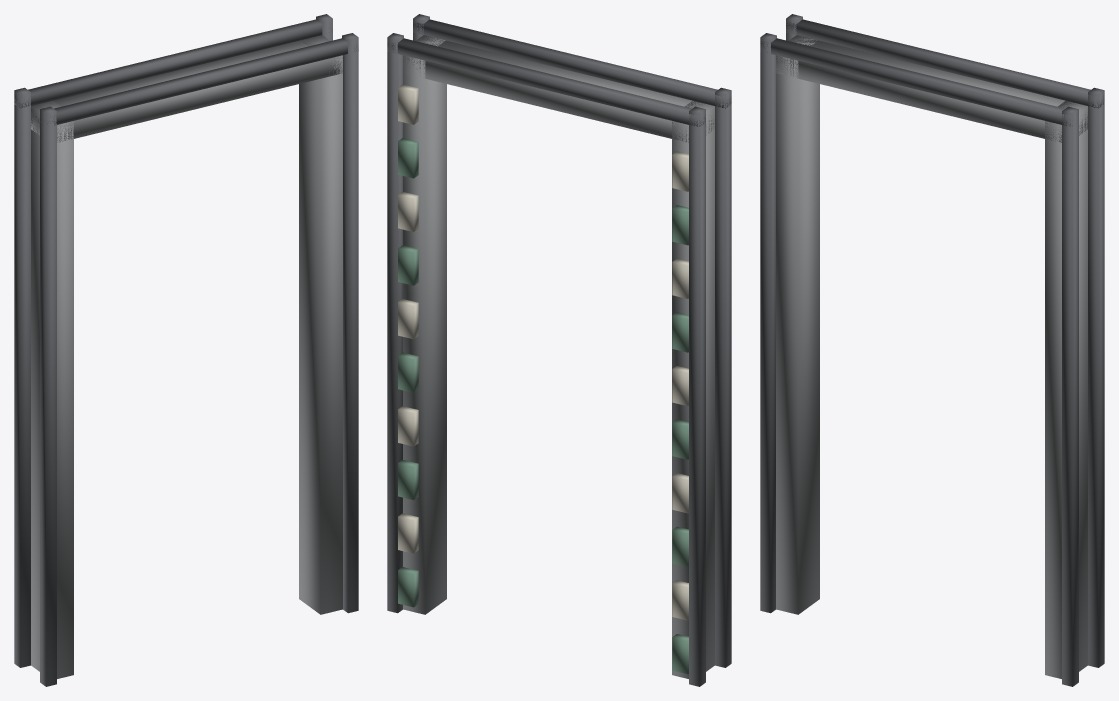
File: doorway_tile_return_w106_h220_d16.glb
The picture shows the model from 3 angles, left to right: view 1: azimuth 30°, elevation 25°; view 2: azimuth 150°, elevation 25°; view 3: azimuth 330°, elevation 25°; orthographic projection.
Visible parts, largest first — view 1: world; view 2: world; view 3: world.
Boxes of the visible parts, box(x1,y1,x2,y2) form: world: box(14, 14, 358, 686); world: box(387, 14, 731, 686); world: box(760, 14, 1104, 686).
Bounding box in the file's own units: 1.34 × 2.35 × 0.2414.
